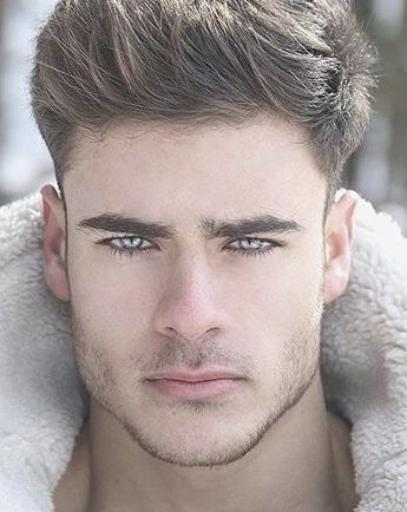left_eye: (219, 235, 290, 265)
left_lip_corner: (228, 368, 252, 393)
right_eye: (91, 231, 165, 262)
right_lip_corner: (139, 370, 165, 393)
